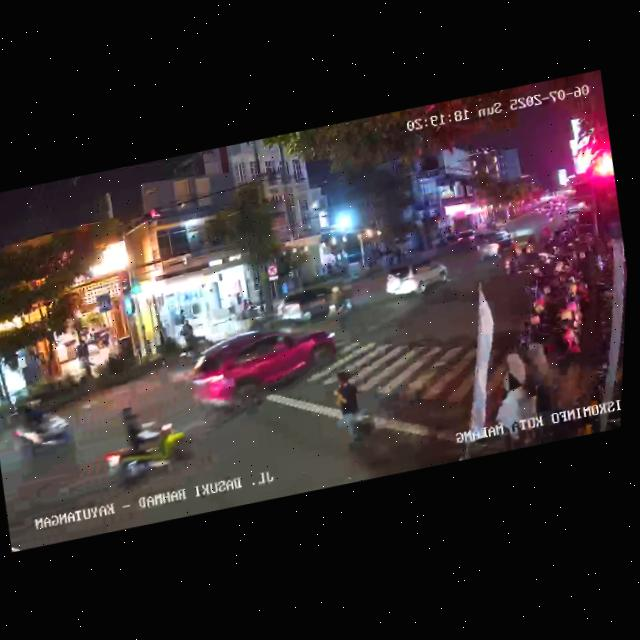car: (180, 310, 349, 429), (377, 252, 453, 306), (272, 280, 348, 330), (470, 227, 517, 267), (507, 226, 543, 260), (455, 226, 481, 252)
motorcycle: (95, 393, 201, 495), (4, 393, 78, 470), (175, 326, 220, 370), (322, 282, 357, 325), (500, 241, 527, 281), (523, 233, 544, 259)
person: (482, 348, 539, 445), (325, 364, 377, 450), (520, 336, 562, 423), (177, 318, 197, 352), (79, 338, 97, 370), (224, 292, 238, 321), (233, 290, 244, 316), (239, 298, 252, 319), (0, 372, 4, 403)
